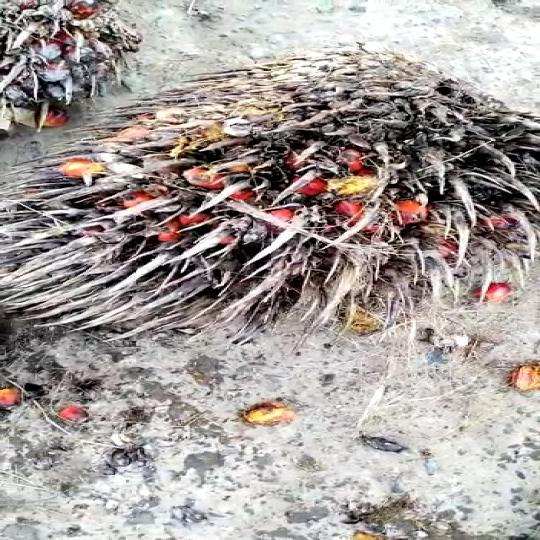terlalu masak: (1, 39, 540, 360)
